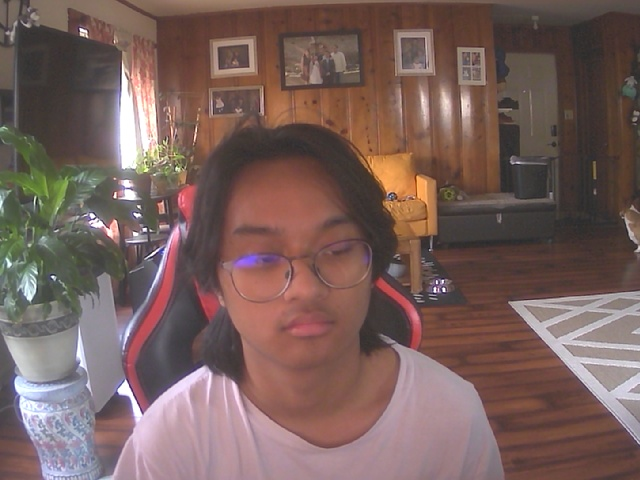neutral: (200, 128, 388, 375)
